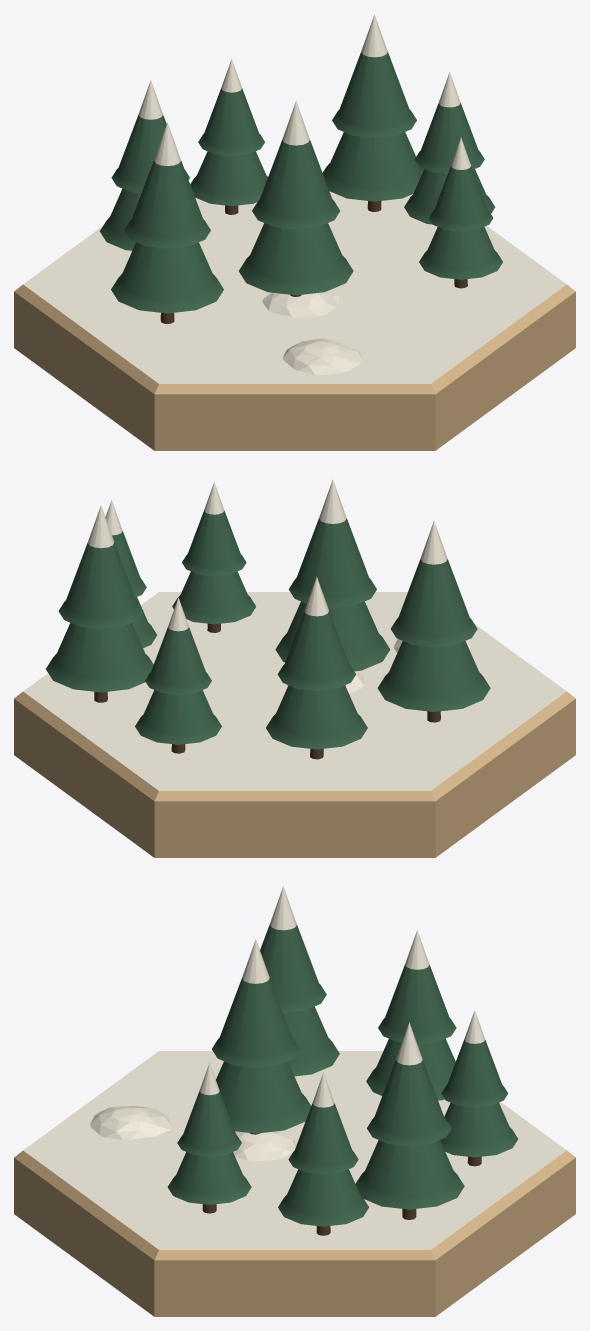
File: tile_snowy_firs_1.fbx
The picture shows the model from 3 angles, top to bottom: view 1: azimuth 30°, elevation 25°; view 2: azimuth 150°, elevation 25°; view 3: azimuth 270°, elevation 25°; orthographic projection.
Visible parts, largest first — view 1: tile_snowy_firs_1; view 2: tile_snowy_firs_1; view 3: tile_snowy_firs_1.
Part boxes in pixels (left/top/right/bottom): tile_snowy_firs_1: left=14, top=14, right=575, bottom=450; tile_snowy_firs_1: left=14, top=479, right=575, bottom=857; tile_snowy_firs_1: left=14, top=886, right=575, bottom=1316.
Size of the model in its own units: 1.73 by 1.05 by 2.
